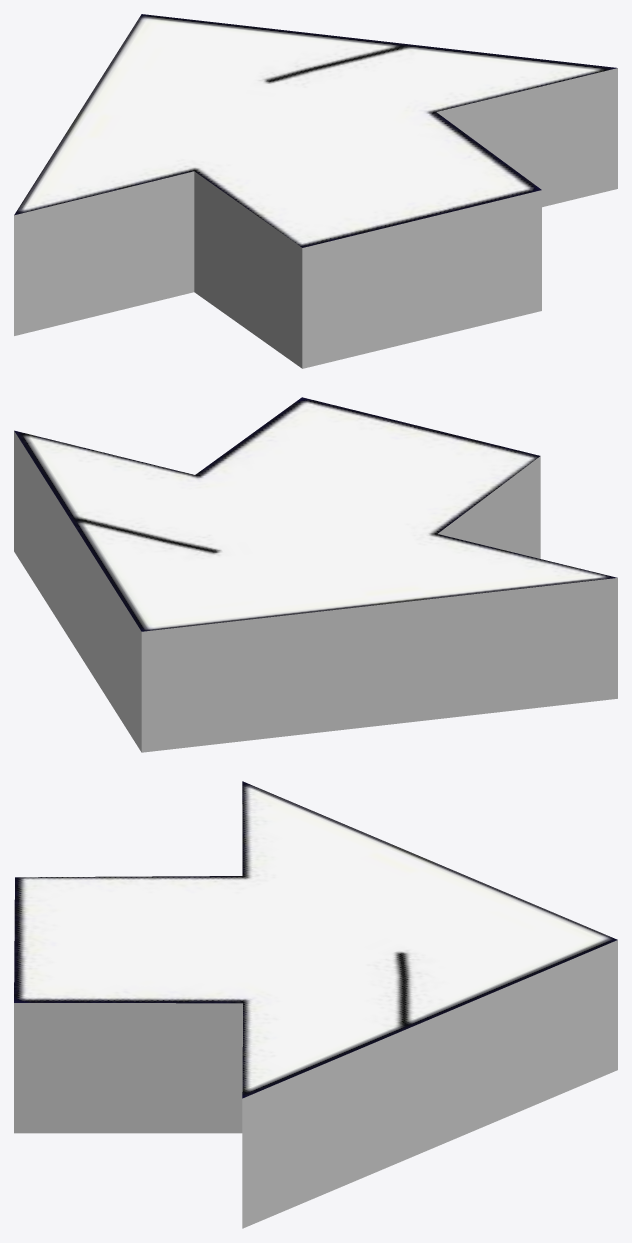
The model's file is akacursorthick.glb.
3 renders of one model, top to bottom at view 1: azimuth 30°, elevation 25°; view 2: azimuth 150°, elevation 25°; view 3: azimuth 270°, elevation 25°, orthographic. The views are drawn at different scales.
Visible parts, largest first — view 1: Plane; view 2: Plane; view 3: Plane.
Boxes of the visible parts, left/top/right/bottom form: Plane: left=14, top=14, right=617, bottom=368; Plane: left=14, top=397, right=617, bottom=752; Plane: left=14, top=781, right=617, bottom=1228.
Bounding box in the file's own units: 5.11 × 0.9779 × 4.11.
Materials: 2 (1 with a texture image).
